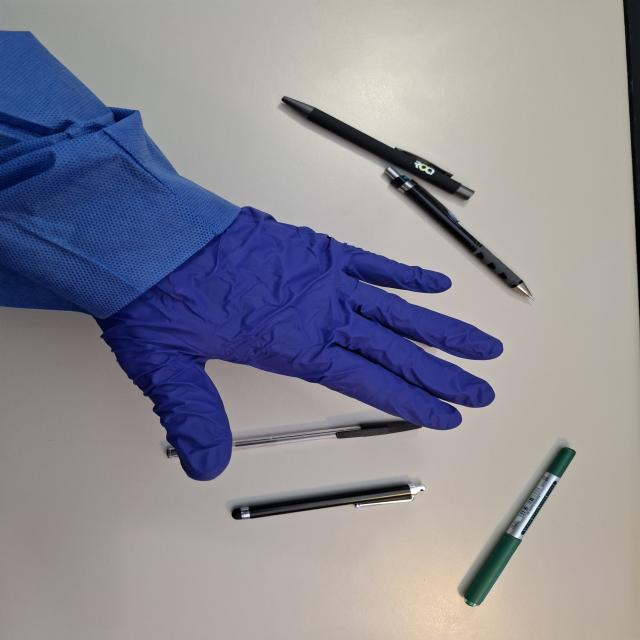glove_on: (82, 202, 506, 482)
